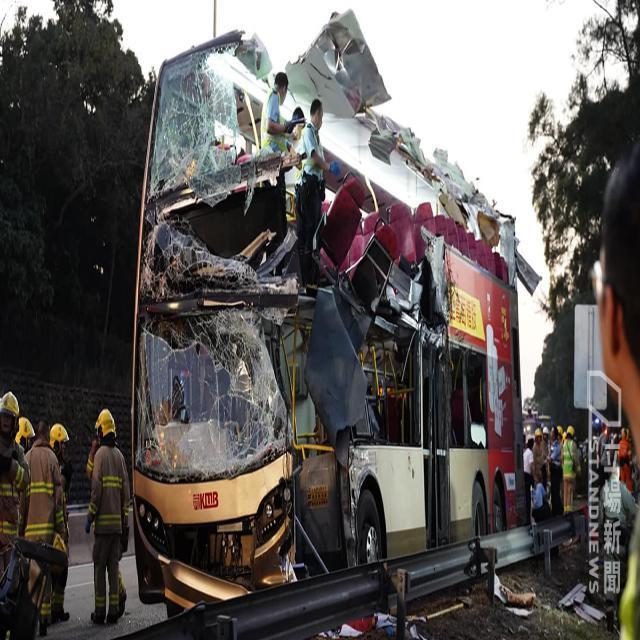accident: (127, 45, 529, 606)
